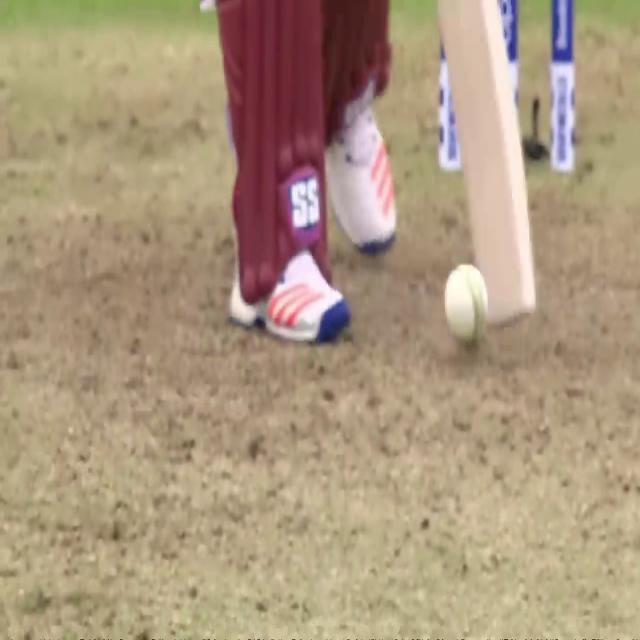ball: (439, 258, 488, 353)
